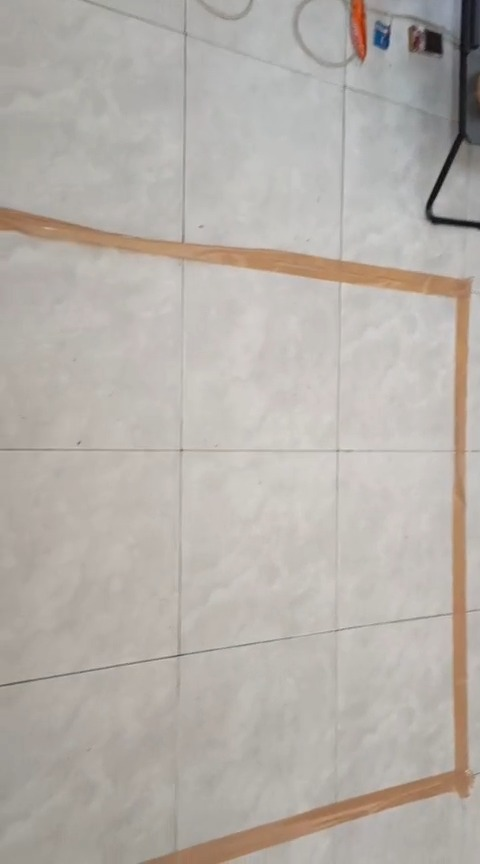floor marking: (2, 208, 473, 863)
